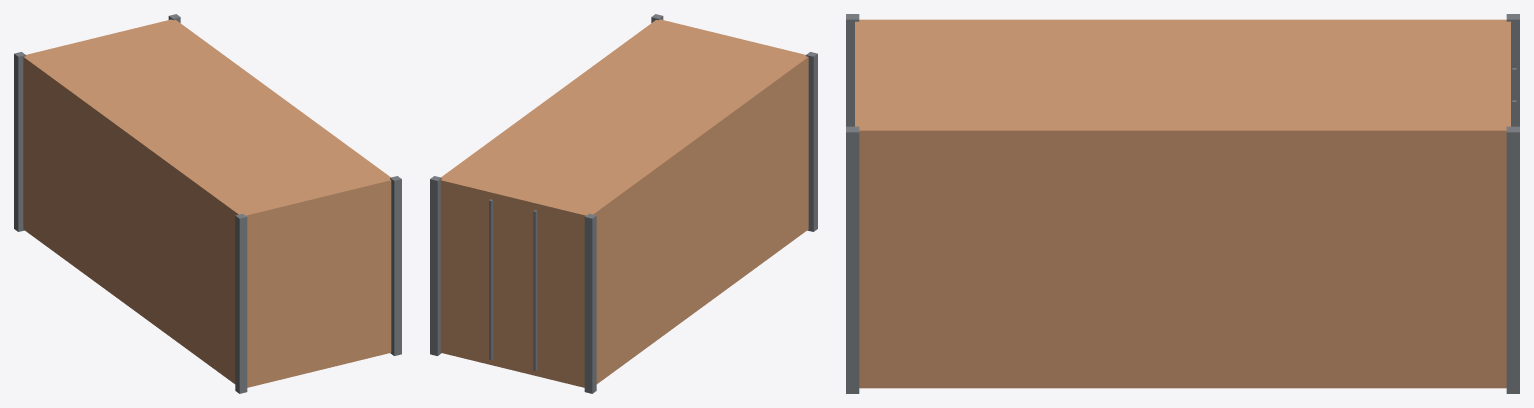
The model's file is harbor_container_modular.glb.
3 views of the same model, side by side, from view 1: azimuth 30°, elevation 25°; view 2: azimuth 150°, elevation 25°; view 3: azimuth 270°, elevation 25° (orthographic). The views are drawn at different scales.
Parts seen in each view (by area): view 1: Cont_Body, Cont_Post_-1.22_-3.02, Cont_Post_1.22_-3.02, Cont_Post_-1.22_3.02; view 2: Cont_Body, Cont_Post_-1.22_3.02, Cont_Post_1.22_3.02, Cont_Post_-1.22_-3.02, Cont_Lock_Bar_L, Cont_Lock_Bar_R; view 3: Cont_Body, Cont_Post_1.22_3.02, Cont_Post_1.22_-3.02, Cont_Post_-1.22_-3.02, Cont_Post_-1.22_3.02.
Part boxes in pixels (bbox=[...]): Cont_Body: bbox=[23, 19, 391, 387]; Cont_Post_-1.22_-3.02: bbox=[235, 213, 247, 393]; Cont_Post_1.22_-3.02: bbox=[390, 176, 401, 355]; Cont_Post_-1.22_3.02: bbox=[14, 52, 25, 231]; Cont_Body: bbox=[440, 19, 808, 387]; Cont_Post_-1.22_3.02: bbox=[584, 213, 596, 393]; Cont_Post_1.22_3.02: bbox=[430, 176, 441, 355]; Cont_Post_-1.22_-3.02: bbox=[806, 52, 817, 231]; Cont_Lock_Bar_L: bbox=[533, 210, 537, 370]; Cont_Lock_Bar_R: bbox=[489, 199, 492, 360]; Cont_Body: bbox=[855, 19, 1510, 388]; Cont_Post_1.22_3.02: bbox=[1506, 126, 1519, 393]; Cont_Post_1.22_-3.02: bbox=[846, 126, 859, 393]; Cont_Post_-1.22_-3.02: bbox=[846, 14, 859, 126]; Cont_Post_-1.22_3.02: bbox=[1506, 14, 1519, 126].
Size of the model in its own units: 2.56 by 2.64 by 6.16.
